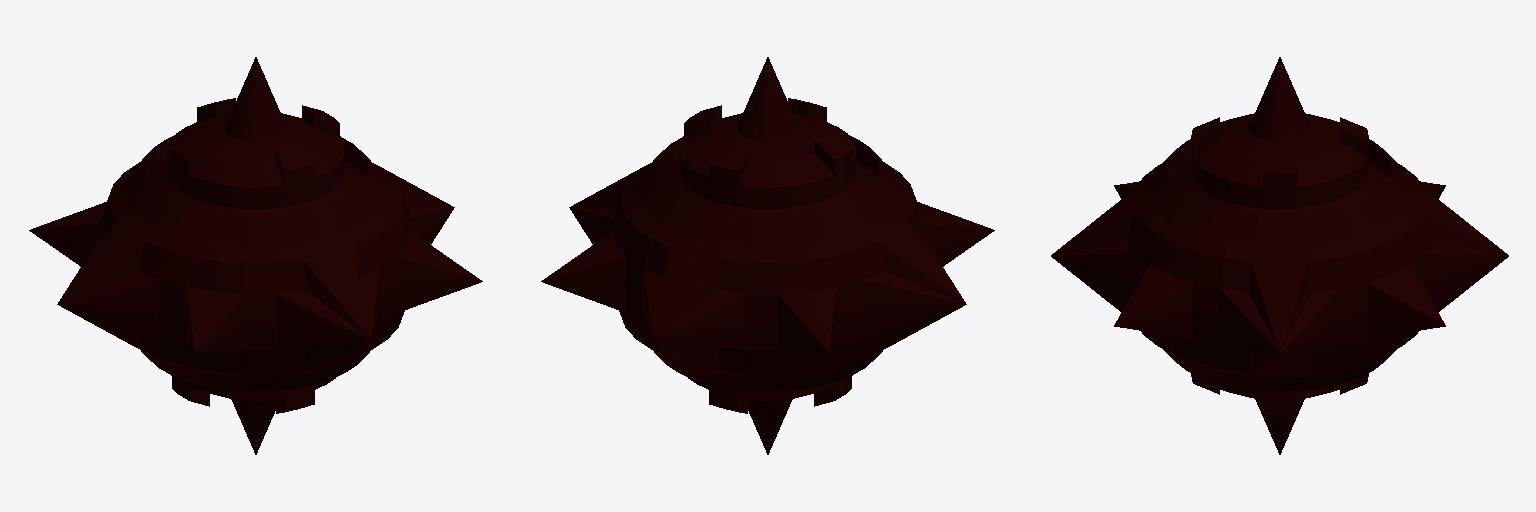
Rendered from EnemyB.obj.
3 views of the same model, side by side, from view 1: azimuth 30°, elevation 25°; view 2: azimuth 150°, elevation 25°; view 3: azimuth 270°, elevation 25° (orthographic).
Visible parts, largest first — view 1: Sphere; view 2: Sphere; view 3: Sphere.
Part boxes in pixels (x1,y1,x2,y2): Sphere: (29,57,482,454); Sphere: (541,57,994,454); Sphere: (1051,57,1508,454).
Size of the model in its own units: 0.7194 by 0.6907 by 0.7194.